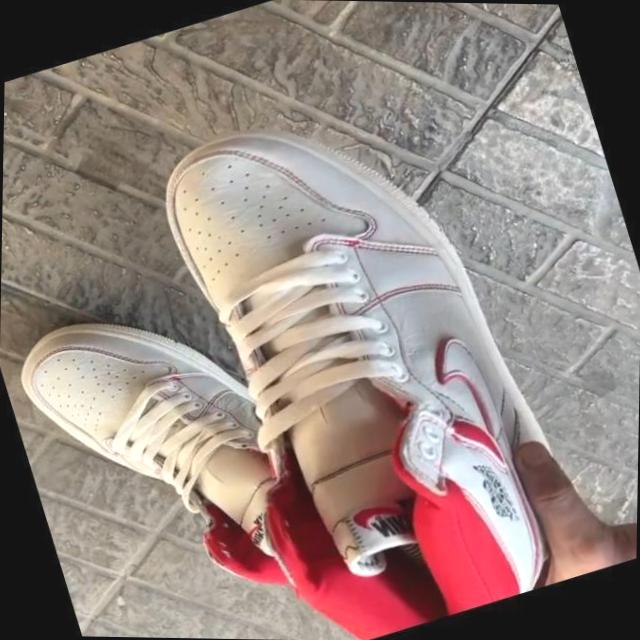nike_fake_jordan: (127, 61, 595, 640), (0, 253, 369, 640)
